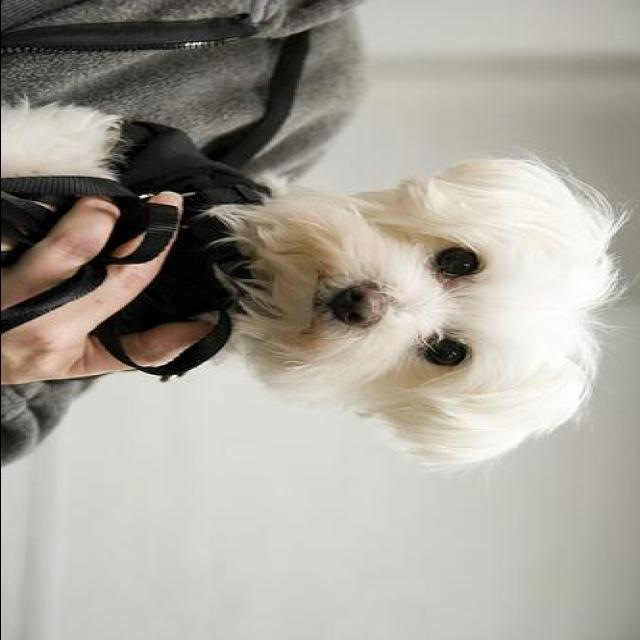maltese_dog: (2, 95, 632, 466)
